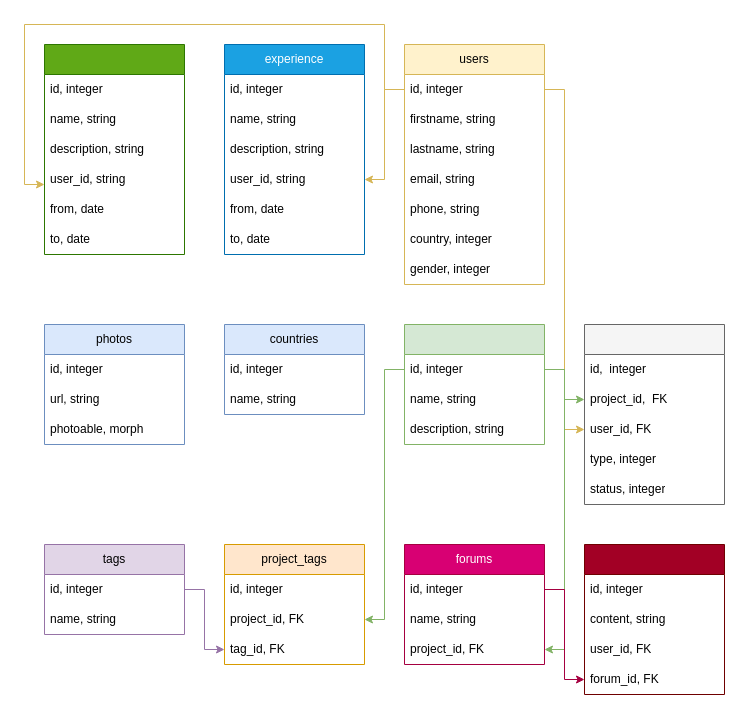
Some shapes in this 742 by 712 pixel diagram are drawn without their labels. The shapes that lost their labels are listed below. From the top down, each one's box as (x1, y1, x2, y2) in pixels, then its label:
(44, 44, 184, 254): education
(404, 324, 544, 444): projects
(584, 324, 724, 504): project_members
(584, 544, 724, 694): posts
